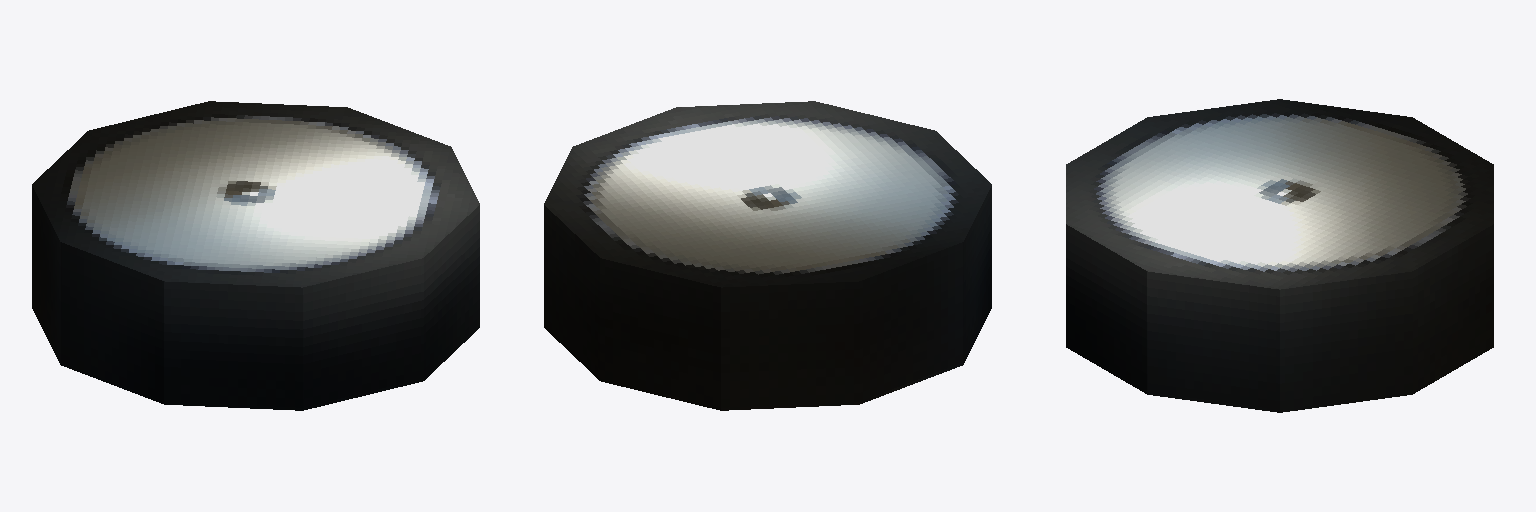
3 renders of one model, left to right at view 1: azimuth 30°, elevation 25°; view 2: azimuth 150°, elevation 25°; view 3: azimuth 270°, elevation 25°, orthographic.
Parts seen in each view (by area): view 1: CleanerBotA_WheelBack; view 2: CleanerBotA_WheelBack; view 3: CleanerBotA_WheelBack.
Boxes of the visible parts, <box> form: CleanerBotA_WheelBack: <box>32,101,479,410</box>; CleanerBotA_WheelBack: <box>544,101,991,410</box>; CleanerBotA_WheelBack: <box>1066,99,1493,412</box>.
Size of the model in its own units: 0.1754 by 0.0529 by 0.1668.
1 materials, 1 textured.